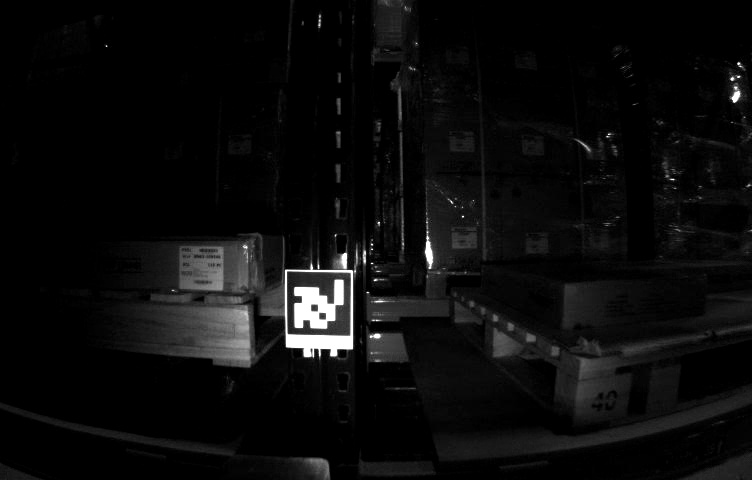True Barcode: (180, 245, 224, 293)
